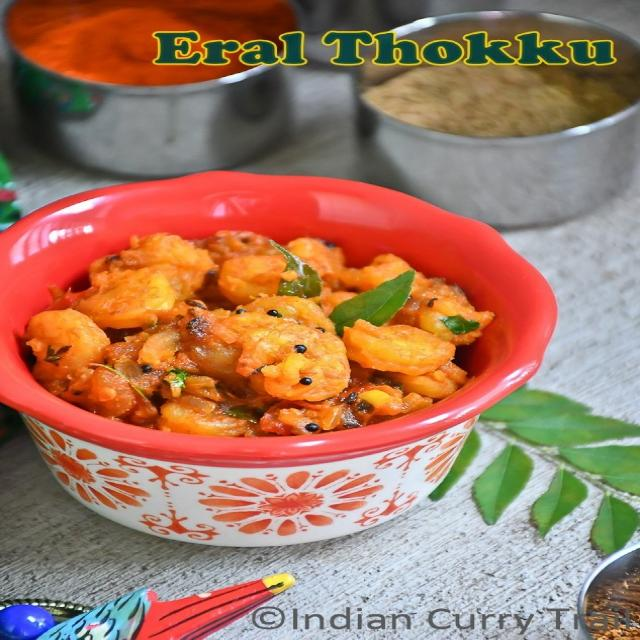prawn thokku: (49, 215, 468, 442)
